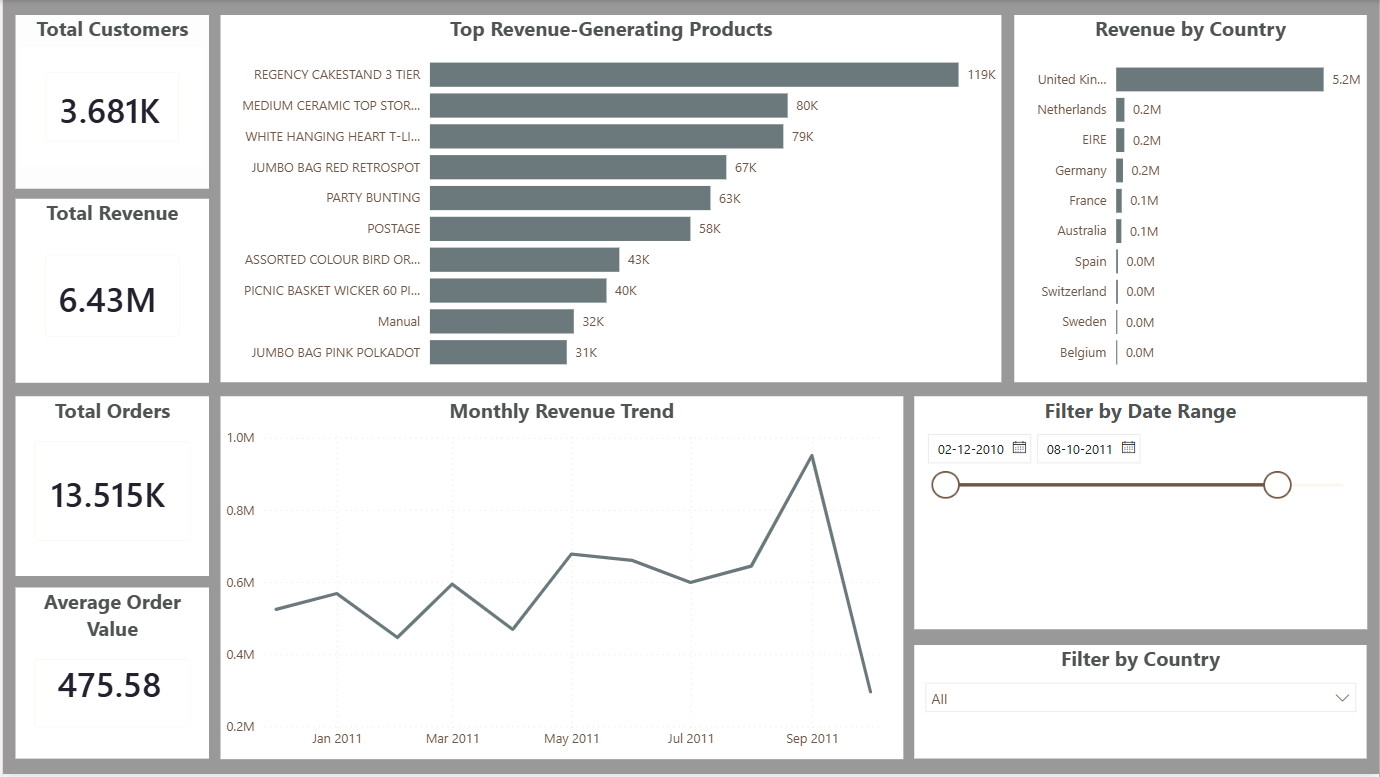

Layout of this report page (visuals, bound fields, positions):
{"tool":"powerbi","page":{"name":"Page 3","canvas":[1280,720],"ordinal":2},"visuals":[{"type":"cardVisual","fields":{"Data":["Sum(customerdna_clean.Revenue)"]},"box":[30,25,280,116.2],"z":0},{"type":"cardVisual","fields":{"Data":["Count(customerdna_clean.CustomerID)"]},"box":[310,32.5,280,108.8],"z":1},{"type":"cardVisual","fields":{"Data":["Count(customerdna_clean.InvoiceNo)"]},"box":[590,32.5,280,108.8],"z":2},{"type":"cardVisual","fields":{"Data":["customerdna_clean.Average Order Value"]},"box":[900,32.5,280,108.8],"z":3},{"type":"lineChart","fields":{"Y":["Sum(customerdna_clean.Revenue)"],"Category":["customerdna_clean.InvoiceDate.Variation.Date Hierarchy.Year","customerdna_clean.InvoiceDate.Variation.Date Hierarchy.Month"]},"box":[35,141.2,1122.5,146.2],"z":4},{"type":"clusteredBarChart","fields":{"Category":["customerdna_clean.Country"],"Y":["Sum(customerdna_clean.Revenue)"]},"box":[0,503.8,606.2,216.2],"z":5},{"type":"clusteredBarChart","fields":{"Category":["customerdna_clean.Description"],"Y":["Sum(customerdna_clean.Revenue)"]},"box":[606.2,515,565,205],"z":6},{"type":"slicer","fields":{"Values":["customerdna_clean.Country"]},"box":[30,287.5,375,200],"z":7},{"type":"slicer","fields":{"Values":["customerdna_clean.InvoiceDate"]},"box":[418.8,287.5,752.5,200],"z":8}]}

Visuals, with their boxes in screenshot pixels (x1, y1, x2, y2), scaled from the page's 1280x720 canvas onto the 1380x777 screenshot:
cardVisual - Sum(customerdna_clean.Revenue): pyautogui.locateOnScreen(32, 27, 334, 152)
cardVisual - Count(customerdna_clean.CustomerID): pyautogui.locateOnScreen(334, 35, 636, 152)
cardVisual - Count(customerdna_clean.InvoiceNo): pyautogui.locateOnScreen(636, 35, 938, 152)
cardVisual - customerdna_clean.Average Order Value: pyautogui.locateOnScreen(970, 35, 1272, 152)
lineChart - Sum(customerdna_clean.Revenue) x customerdna_clean.InvoiceDate.Variation.Date Hierarchy.Year: pyautogui.locateOnScreen(38, 152, 1248, 310)
clusteredBarChart - customerdna_clean.Country x Sum(customerdna_clean.Revenue): pyautogui.locateOnScreen(0, 544, 654, 776)
clusteredBarChart - customerdna_clean.Description x Sum(customerdna_clean.Revenue): pyautogui.locateOnScreen(654, 556, 1263, 776)
slicer - customerdna_clean.Country: pyautogui.locateOnScreen(32, 310, 437, 526)
slicer - customerdna_clean.InvoiceDate: pyautogui.locateOnScreen(452, 310, 1263, 526)
